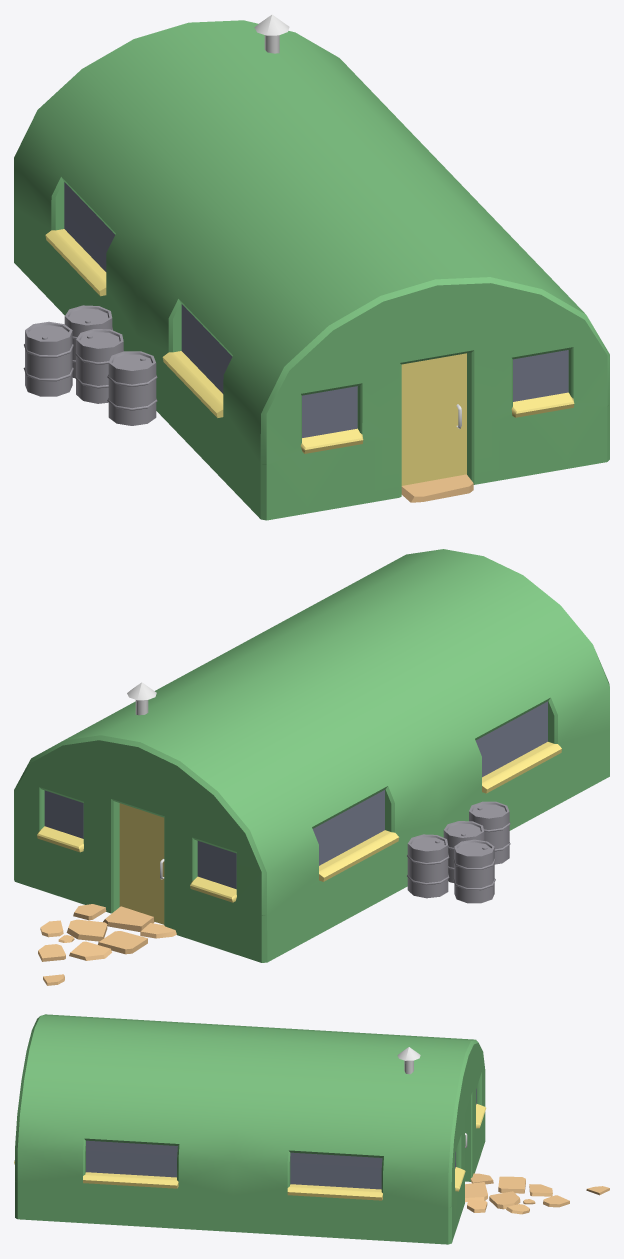
File: BuildingSand02_W.fbx
3 renders of one model, top to bottom at view 1: azimuth 30°, elevation 25°; view 2: azimuth 150°, elevation 25°; view 3: azimuth 270°, elevation 25°, orthographic. The views are drawn at different scales.
Visible parts, largest first — view 1: BuildingSand02__1_; view 2: BuildingSand02__1_; view 3: BuildingSand02__1_.
Boxes of the visible parts, x1,y1,x2,y2 form: BuildingSand02__1_: [14, 14, 609, 520]; BuildingSand02__1_: [14, 549, 609, 985]; BuildingSand02__1_: [14, 1014, 609, 1244].
Bounding box in the file's own units: 554 × 284 × 958.
